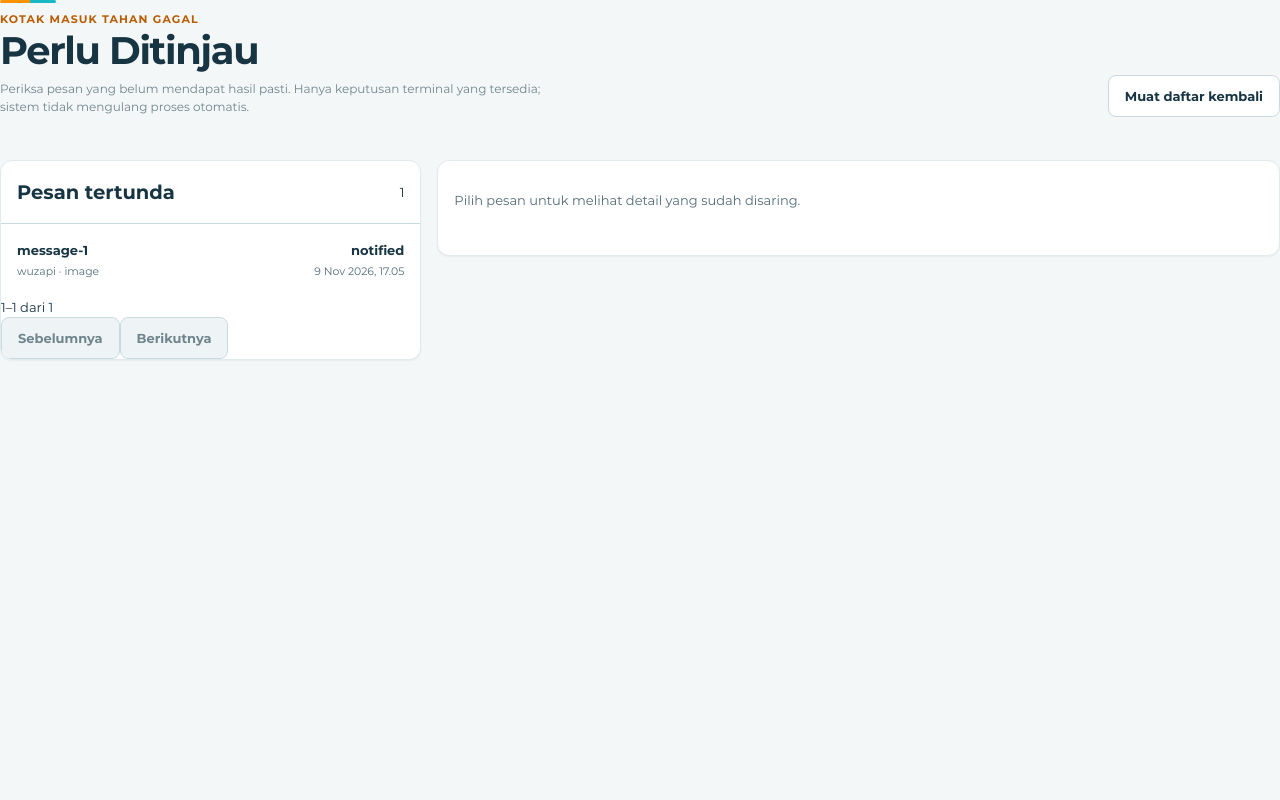
Test: Perlu Ditinjau workspace › shows terminal actions only when locally and upstream-enabled, requiring reason and explicit confirmation
Click the button with aria-label "Tinjau message-1" at x=53, y=250, box [1,224,420,297]
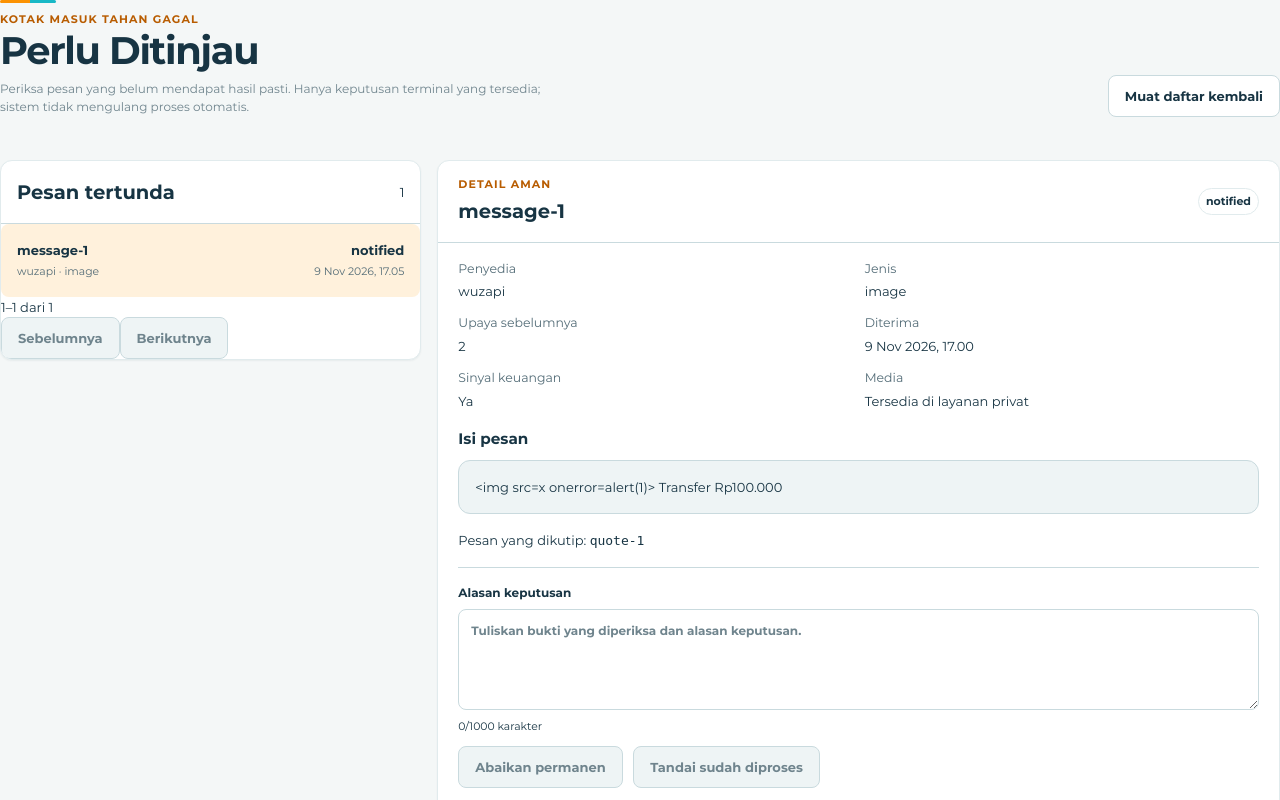
Result: the button "Abaikan permanen" is disabled at [458,746,623,788]
Type "Bukan transaksi" into the text box labelled "Alasan keputusan" at x=859, y=659, box [458,609,1259,710]
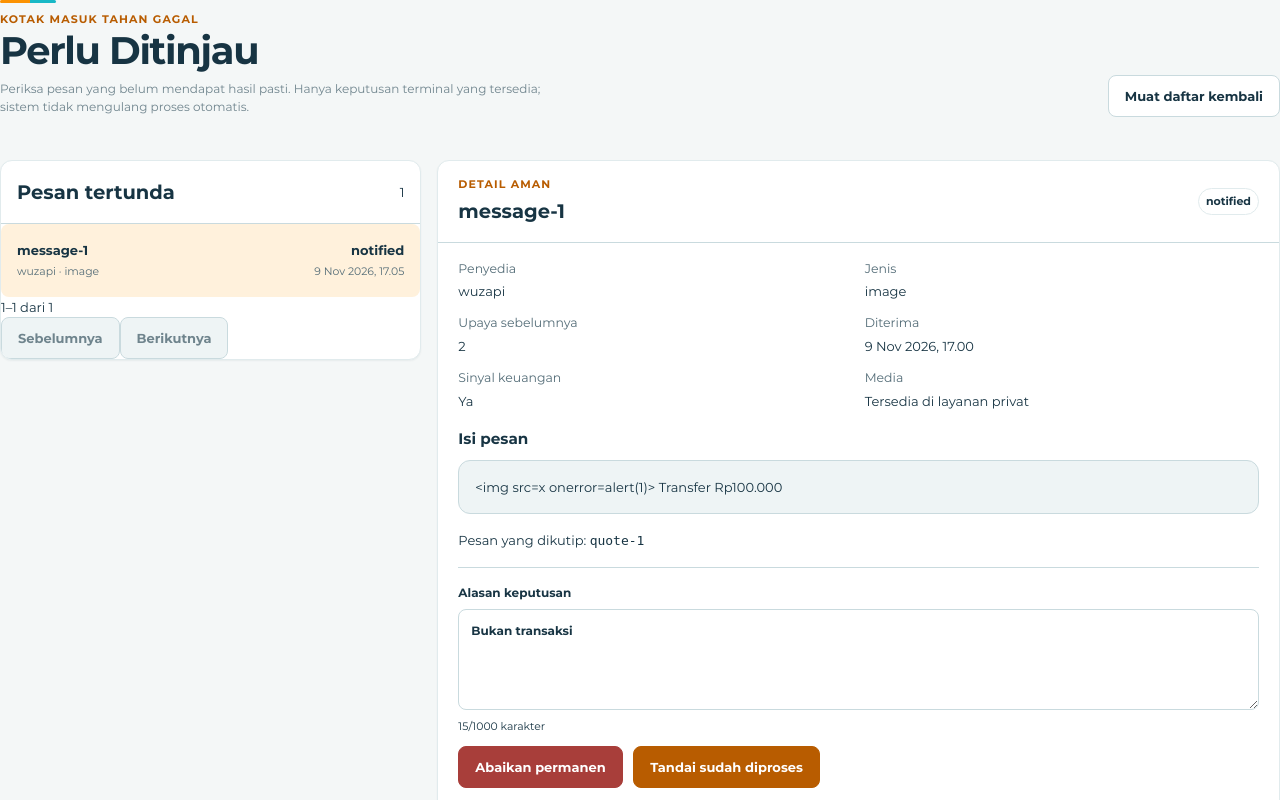
Result: the button "Abaikan permanen" is enabled
Click the button "Abaikan permanen" at x=540, y=767, box [458,746,623,788]
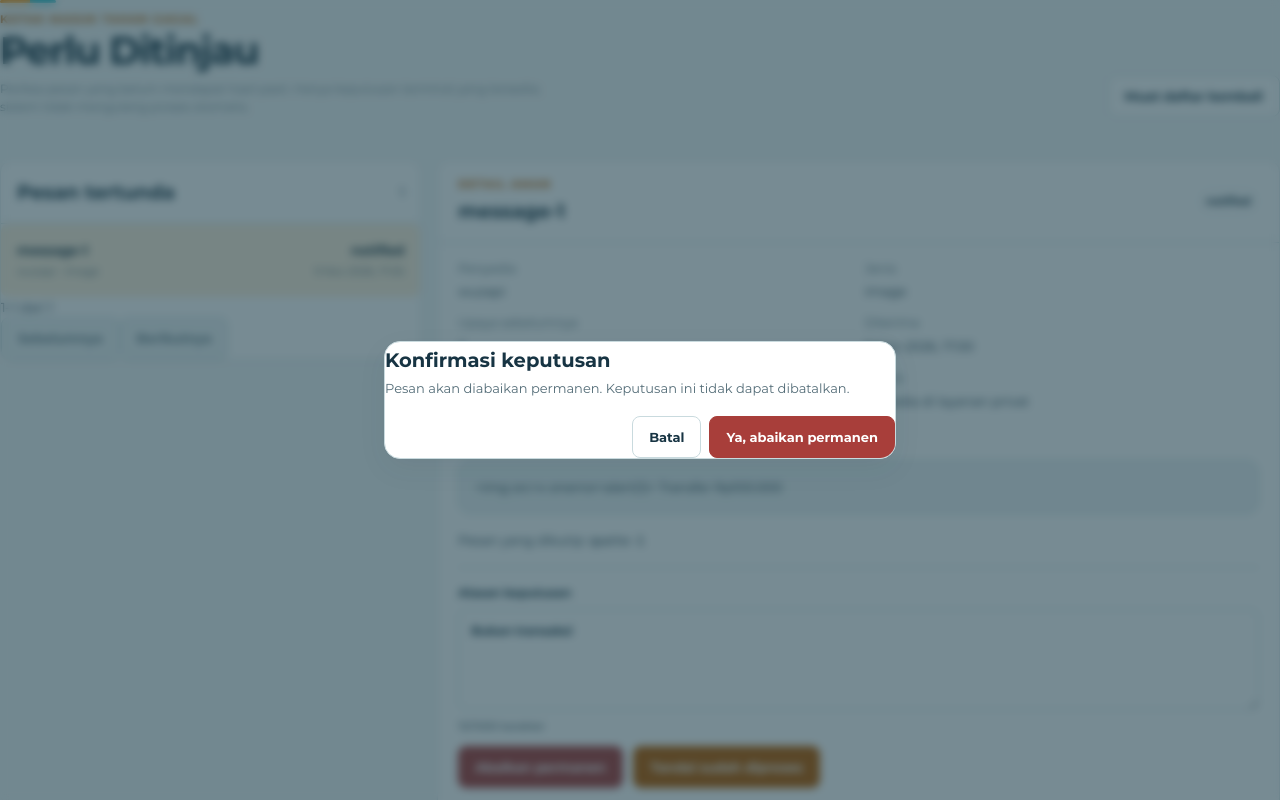
Result: the text "tidak dapat dibatalkan" is shown at [385,380,849,396]
Click the button "Ya, abaikan permanen" at x=802, y=437, box [710,416,895,458]
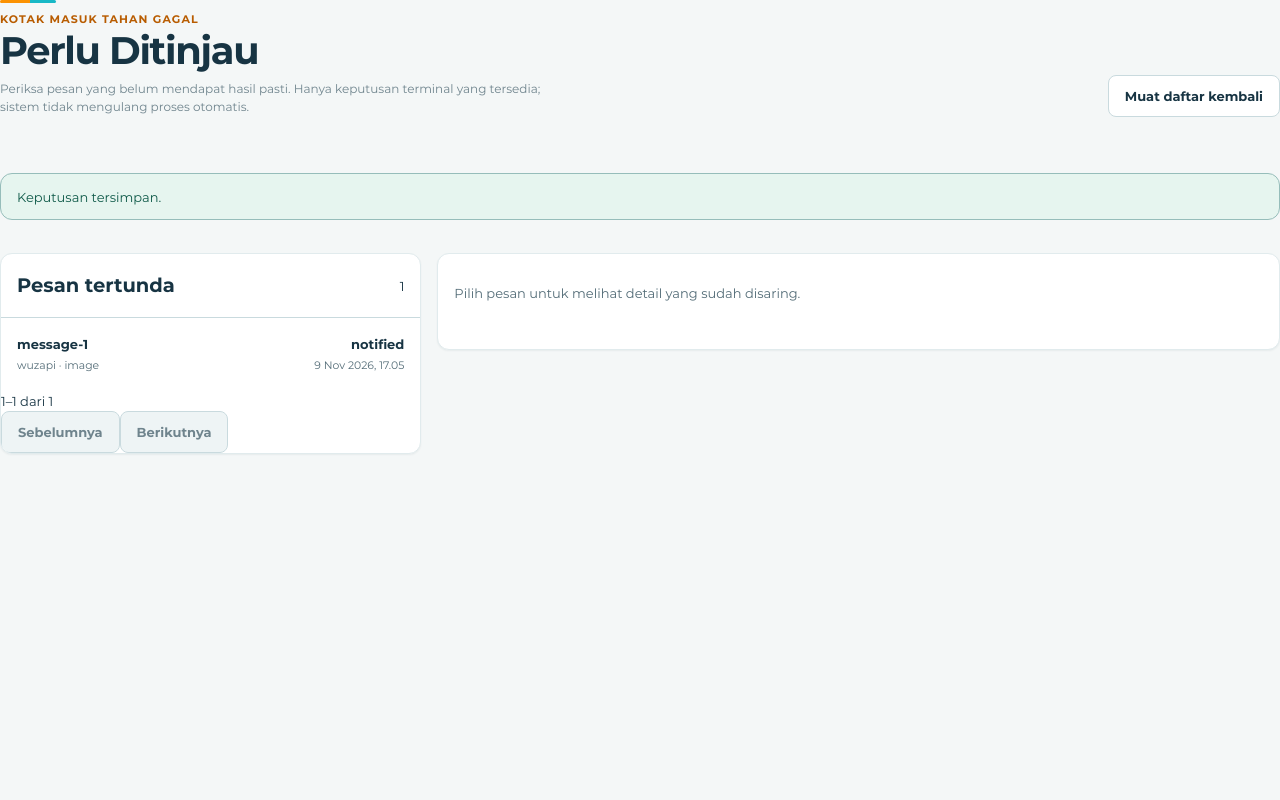
Result: the message reads "Keputusan tersimpan." at [17,188,161,204]
